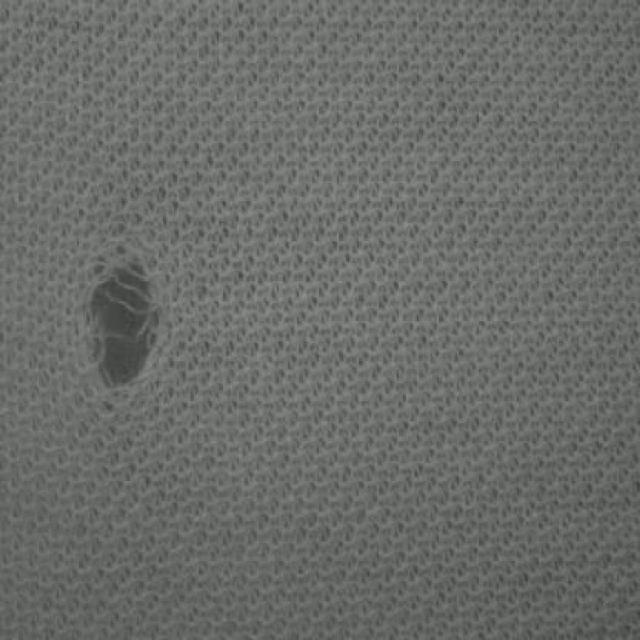Hole: (85, 246, 158, 387)
